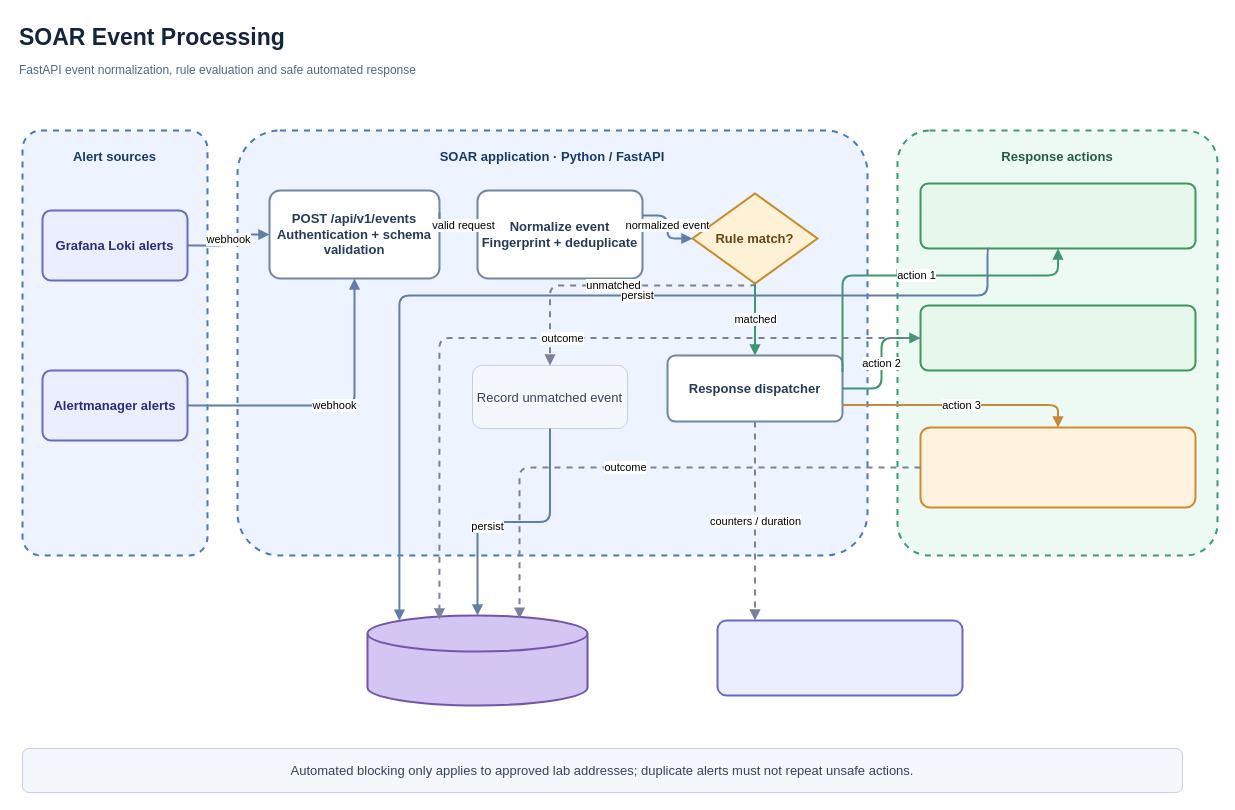
Image size: 1235x810. Some labels were removed from this diagram. Each missing label, with the centre of its shape:
"PostgreSQL Incidents / execution records" belongs at point 477,660.
"Prometheus /metrics Counts, failures, durations" belongs at point 839,657.
"Send security notification" belongs at point 1057,337.
"Simulated firewall block Allowlist + address checks" belongs at point 1057,467.
"Write incident and results" belongs at point 1057,215.
